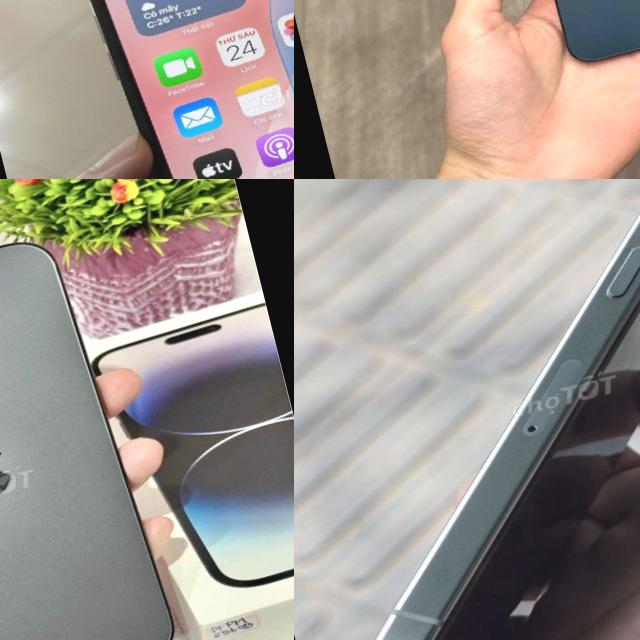gen_12_13: (483, 0, 640, 80)
gen_14: (0, 213, 200, 640)
gen_16: (373, 210, 640, 640)
gen_x_xs: (54, 0, 294, 179)
